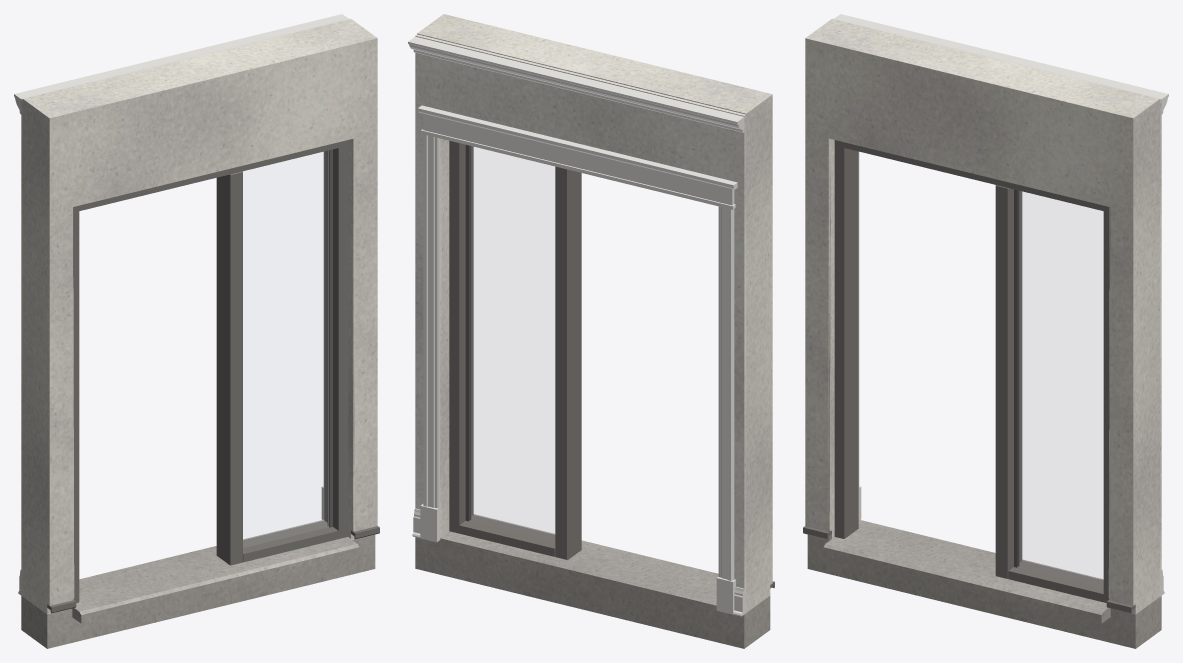
File: wall_entry.glb
The picture shows the model from 3 angles, left to right: view 1: azimuth 30°, elevation 25°; view 2: azimuth 150°, elevation 25°; view 3: azimuth 330°, elevation 25°; orthographic projection.
Parts seen in each view (by area): view 1: wall_entry_render, wall_entry_glass, wall_entry_metal, wall_entry_concrete, molduras, wall_entry_dark, wall_entry_plaster; view 2: wall_entry_glass, molduras, wall_entry_plaster, wall_entry_render, wall_entry_metal, wall_entry_concrete, wall_entry_dark; view 3: wall_entry_render, wall_entry_glass, wall_entry_metal, wall_entry_concrete, molduras, wall_entry_dark, wall_entry_plaster.
Part boxes in pixels (x1=…): wall_entry_render: x1=23, y1=19, x2=377, y2=614; wall_entry_glass: x1=243, y1=151, x2=328, y2=547; wall_entry_metal: x1=47, y1=140, x2=379, y2=613; wall_entry_concrete: x1=21, y1=519, x2=375, y2=648; molduras: x1=14, y1=14, x2=347, y2=595; wall_entry_dark: x1=327, y1=149, x2=332, y2=527; wall_entry_plaster: x1=21, y1=18, x2=349, y2=596; wall_entry_glass: x1=470, y1=146, x2=554, y2=540; molduras: x1=408, y1=36, x2=744, y2=616; wall_entry_plaster: x1=415, y1=34, x2=746, y2=614; wall_entry_render: x1=417, y1=14, x2=772, y2=612; wall_entry_metal: x1=449, y1=140, x2=774, y2=588; wall_entry_concrete: x1=415, y1=514, x2=770, y2=648; wall_entry_dark: x1=465, y1=145, x2=471, y2=521; wall_entry_render: x1=805, y1=19, x2=1159, y2=614; wall_entry_glass: x1=1018, y1=191, x2=1102, y2=586; wall_entry_metal: x1=803, y1=140, x2=1135, y2=613; wall_entry_concrete: x1=807, y1=519, x2=1161, y2=648; molduras: x1=835, y1=14, x2=1168, y2=595; wall_entry_dark: x1=1014, y1=189, x2=1019, y2=567; wall_entry_plaster: x1=833, y1=18, x2=1161, y2=596.
Bounding box in the file's own units: 2 × 3.1 × 0.445.
7 materials, 3 textured.
